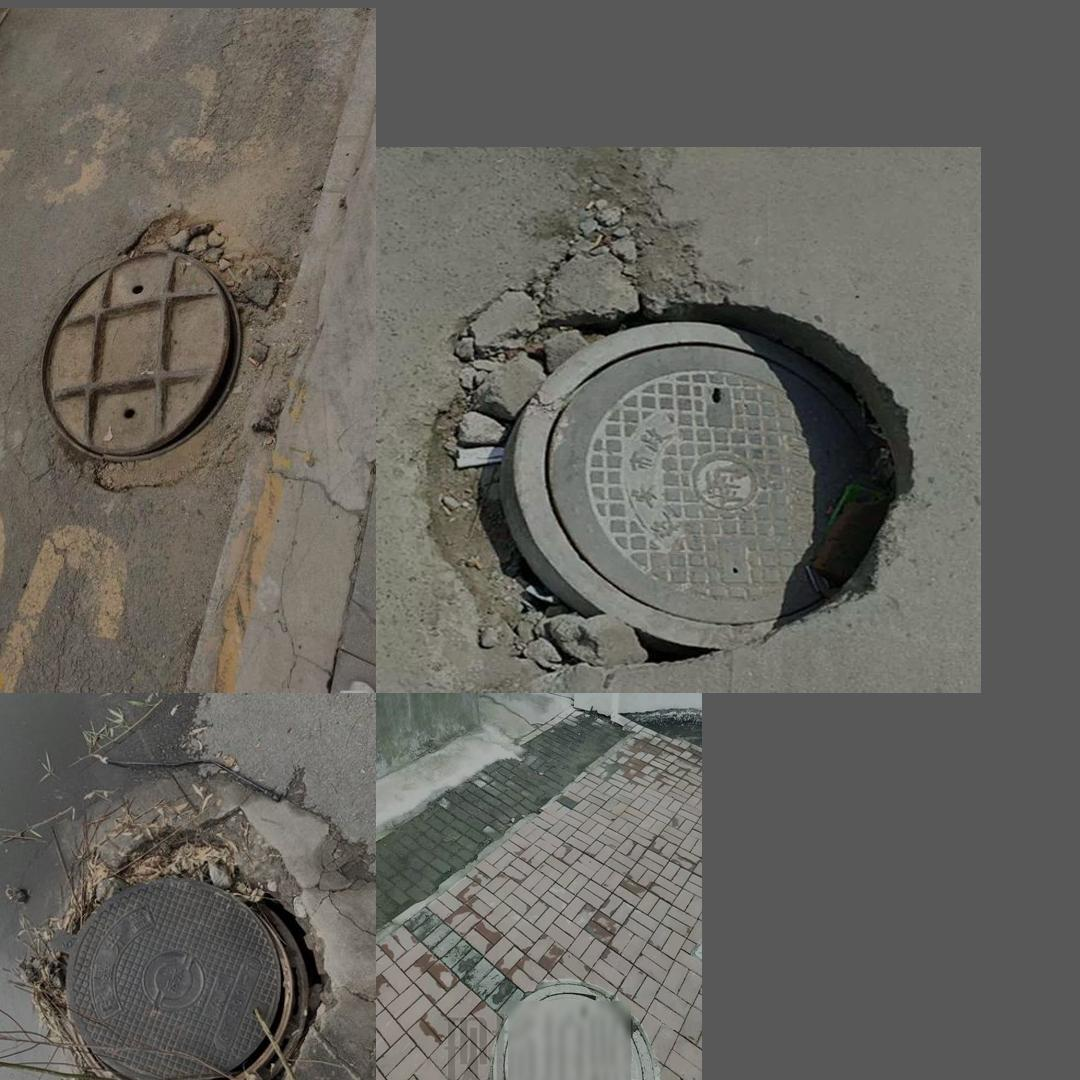circle: (435, 189, 912, 659), (6, 768, 370, 1080), (21, 184, 323, 526), (489, 983, 657, 1080)
